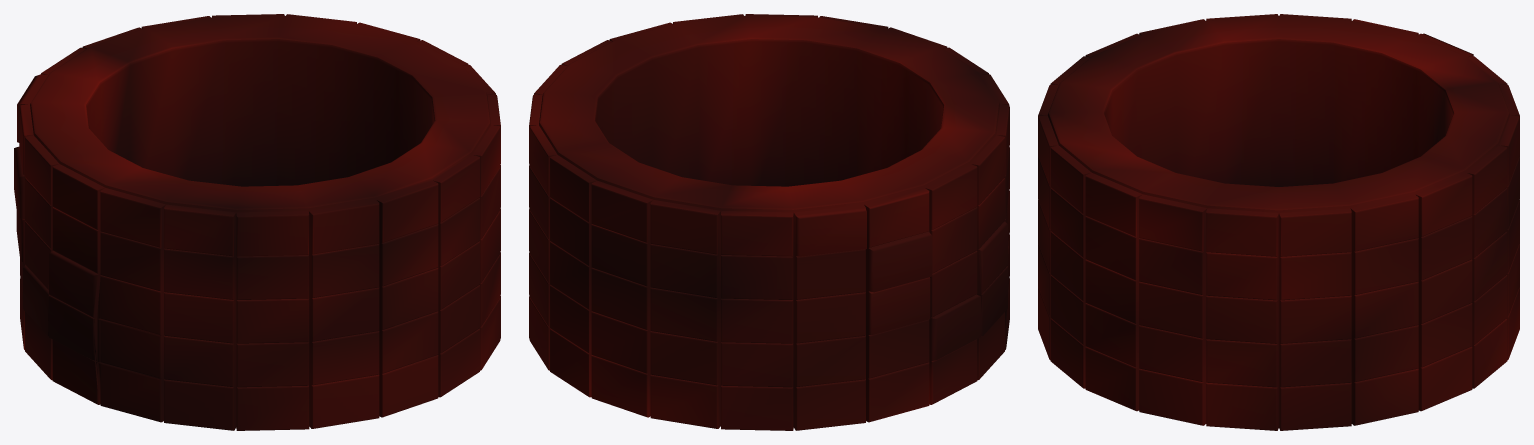
Rendered from well.fbx.
3 views of the same model, side by side, from view 1: azimuth 30°, elevation 25°; view 2: azimuth 150°, elevation 25°; view 3: azimuth 270°, elevation 25° (orthographic).
Visible parts, largest first — view 1: well; view 2: well; view 3: well.
Part boxes in pixels (left/top/right/bottom): well: left=14, top=14, right=500, bottom=430; well: left=529, top=14, right=1009, bottom=430; well: left=1038, top=14, right=1519, bottom=430.
Size of the model in its own units: 7.73 by 3.82 by 7.67.
